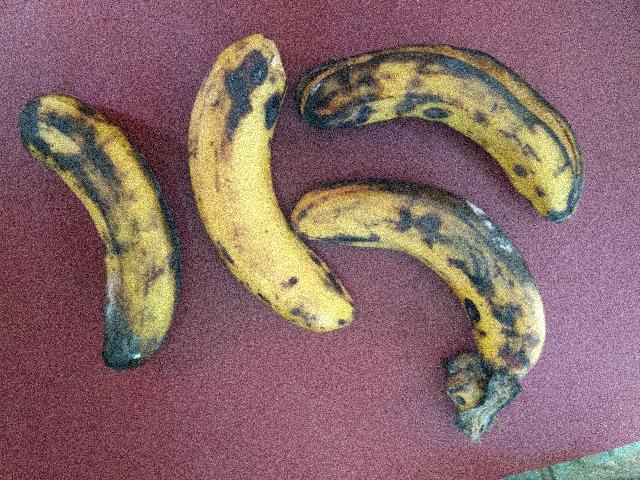overripe: (176, 34, 389, 365)
rotten: (298, 27, 595, 215), (292, 173, 562, 374), (7, 89, 190, 367)
